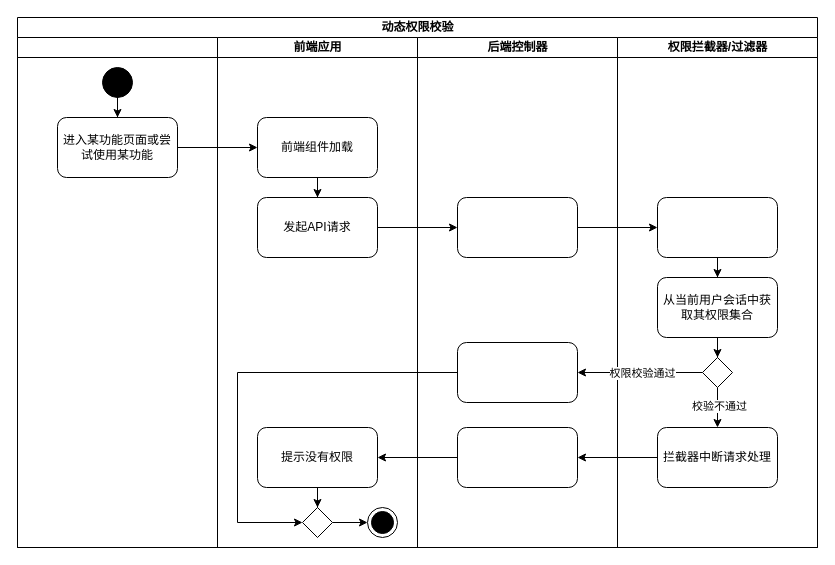
Image size: 835x565. Some labels were removed from this diagram. Each missing label, with the box of its shape:
执行相应业务逻辑: (456, 342, 578, 402)
权限拦截器/过滤器被触发，解析请求对应的操作权限标识符: (656, 196, 778, 258)
用户: (16, 36, 218, 548)
请求到达后端接口: (456, 196, 578, 258)
返回标准错误响应: (456, 426, 578, 488)
